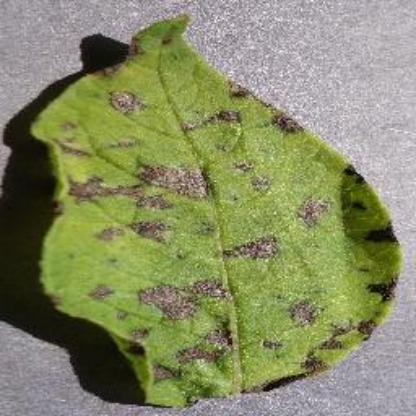Early-Blight: (23, 8, 402, 408)
